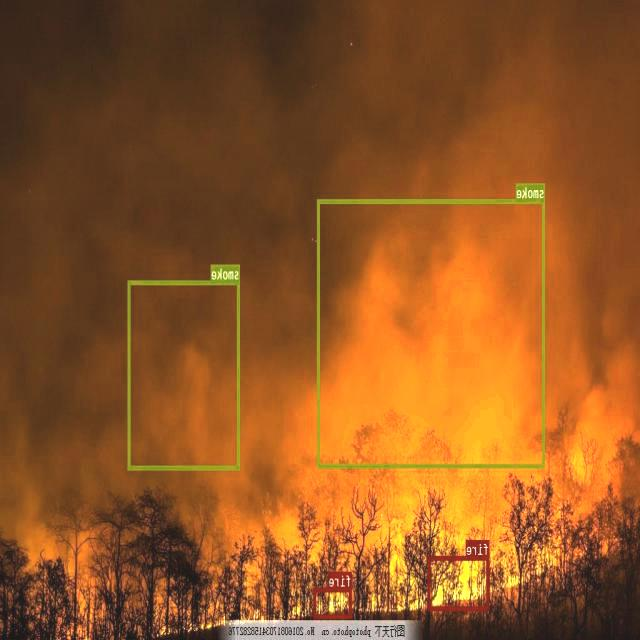fire: (428, 556, 489, 610), (314, 586, 352, 618)
smoke: (318, 198, 546, 466), (128, 280, 240, 469)
